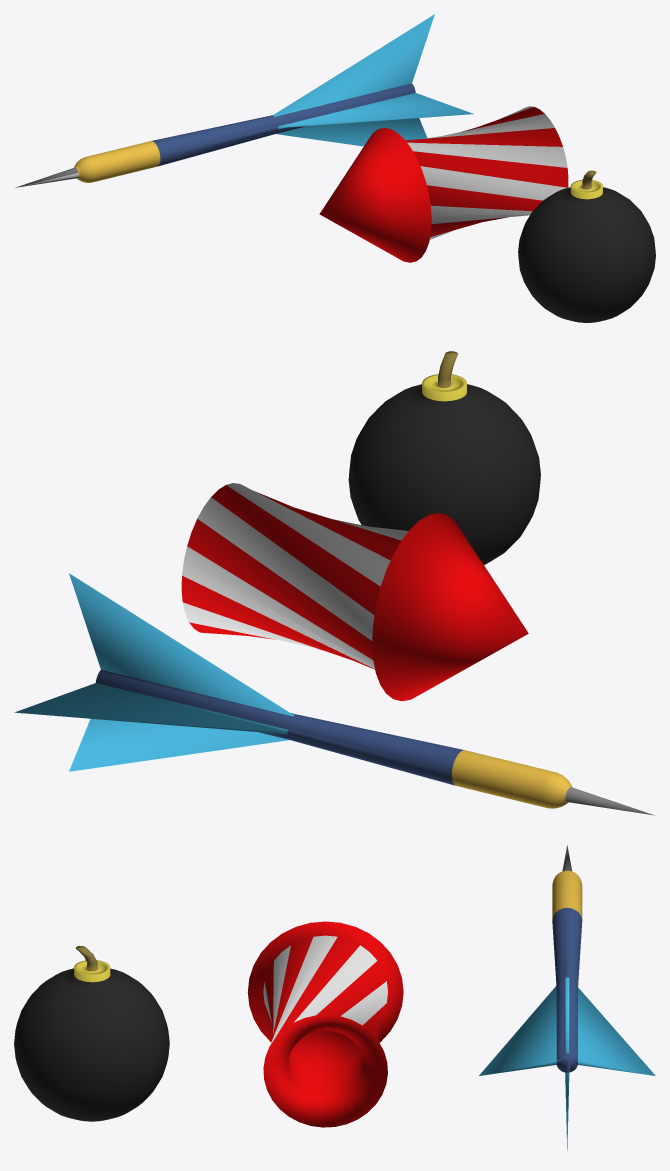
Rendered from Powerups.fbx.
3 views of the same model, one above another, from view 1: azimuth 30°, elevation 25°; view 2: azimuth 150°, elevation 25°; view 3: azimuth 270°, elevation 25° (orthographic). The views are drawn at different scales.
Visible parts, largest first — view 1: powerup_rocket, powerup_dart, powerup_bomb; view 2: powerup_rocket, powerup_dart, powerup_bomb; view 3: powerup_rocket, powerup_bomb, powerup_dart.
Boxes of the visible parts, <box> form: powerup_rocket: <box>319,106,568,262</box>; powerup_dart: <box>15,14,473,187</box>; powerup_bomb: <box>518,170,655,322</box>; powerup_rocket: <box>181,483,528,701</box>; powerup_dart: <box>14,573,654,815</box>; powerup_bomb: <box>348,351,540,564</box>; powerup_rocket: <box>247,921,403,1127</box>; powerup_bomb: <box>14,946,169,1121</box>; powerup_dart: <box>479,845,655,1150</box>.
Size of the model in its own units: 705 by 250 by 824.
